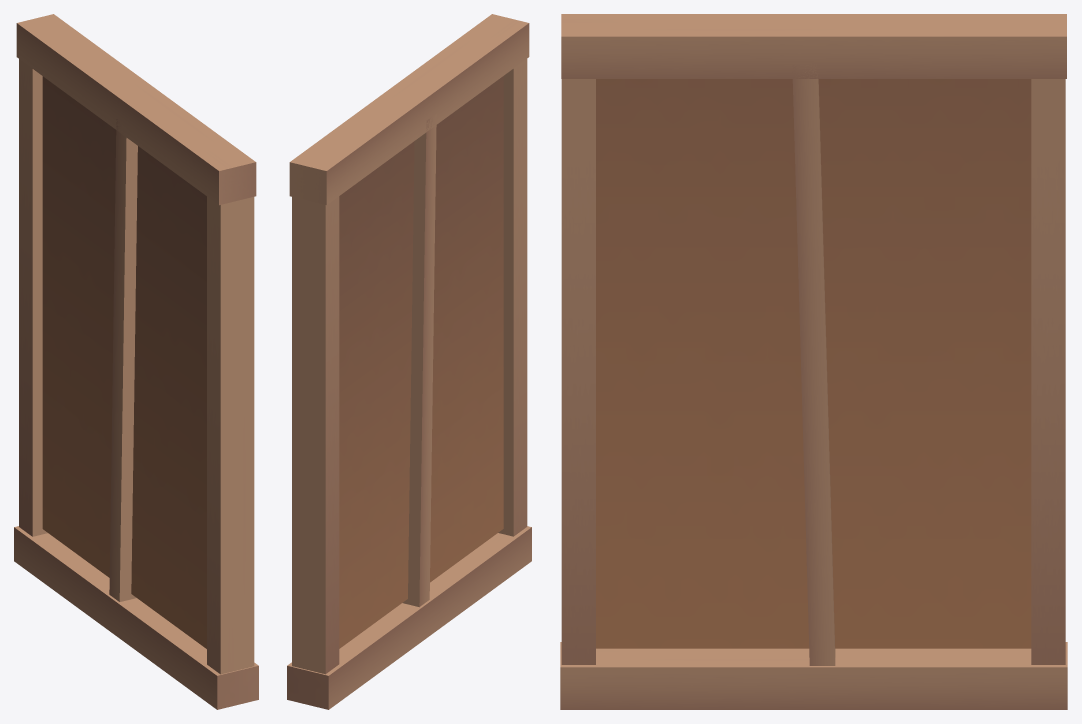
File: Wall.fbx
3 renders of one model, left to right at view 1: azimuth 30°, elevation 25°; view 2: azimuth 150°, elevation 25°; view 3: azimuth 270°, elevation 25°, orthographic. The views are drawn at different scales.
Parts seen in each view (by area): view 1: Wooden Wall.066; view 2: Wooden Wall.066; view 3: Wooden Wall.066.
Part boxes in pixels (x1=…): Wooden Wall.066: x1=14, y1=14, x2=258, y2=709; Wooden Wall.066: x1=287, y1=14, x2=531, y2=709; Wooden Wall.066: x1=560, y1=14, x2=1067, y2=709.
Bounding box in the file's own units: 198 × 2442 × 1672.
